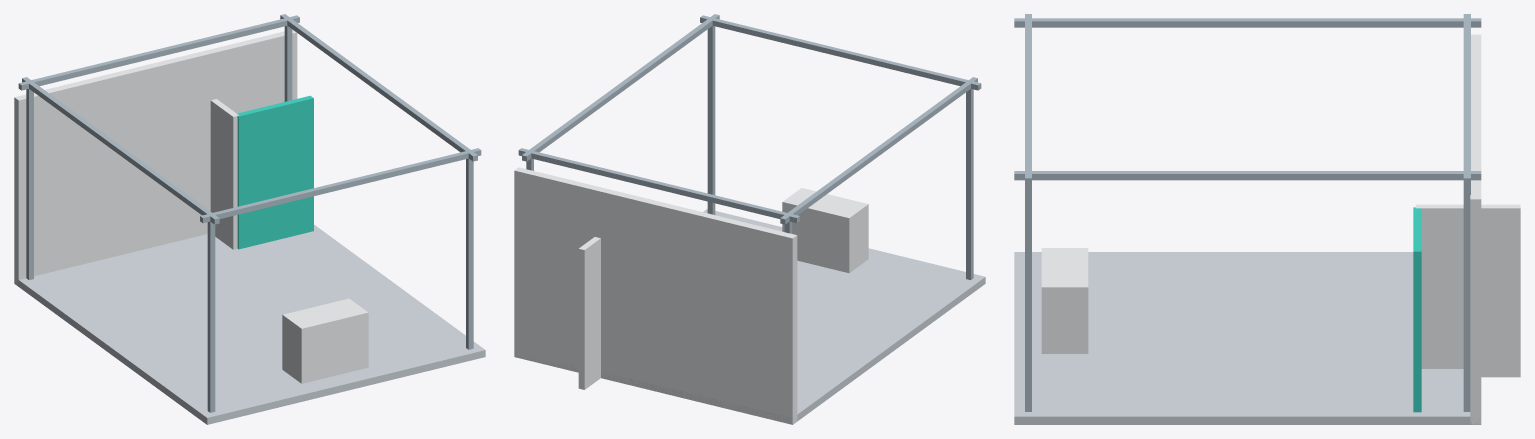
The picture shows the model from 3 angles, left to right: view 1: azimuth 30°, elevation 25°; view 2: azimuth 150°, elevation 25°; view 3: azimuth 270°, elevation 25°; orthographic projection. The views are drawn at different scales.
Parts seen in each view (by area): view 1: Exhibition Booth Concept; view 2: Exhibition Booth Concept; view 3: Exhibition Booth Concept.
Part boxes in pixels (x1,y1,x2,y2): Exhibition Booth Concept: (14, 14, 485, 424); Exhibition Booth Concept: (514, 14, 985, 424); Exhibition Booth Concept: (1014, 14, 1520, 424).
Size of the model in its own units: 5 by 3.49 by 6.51.
